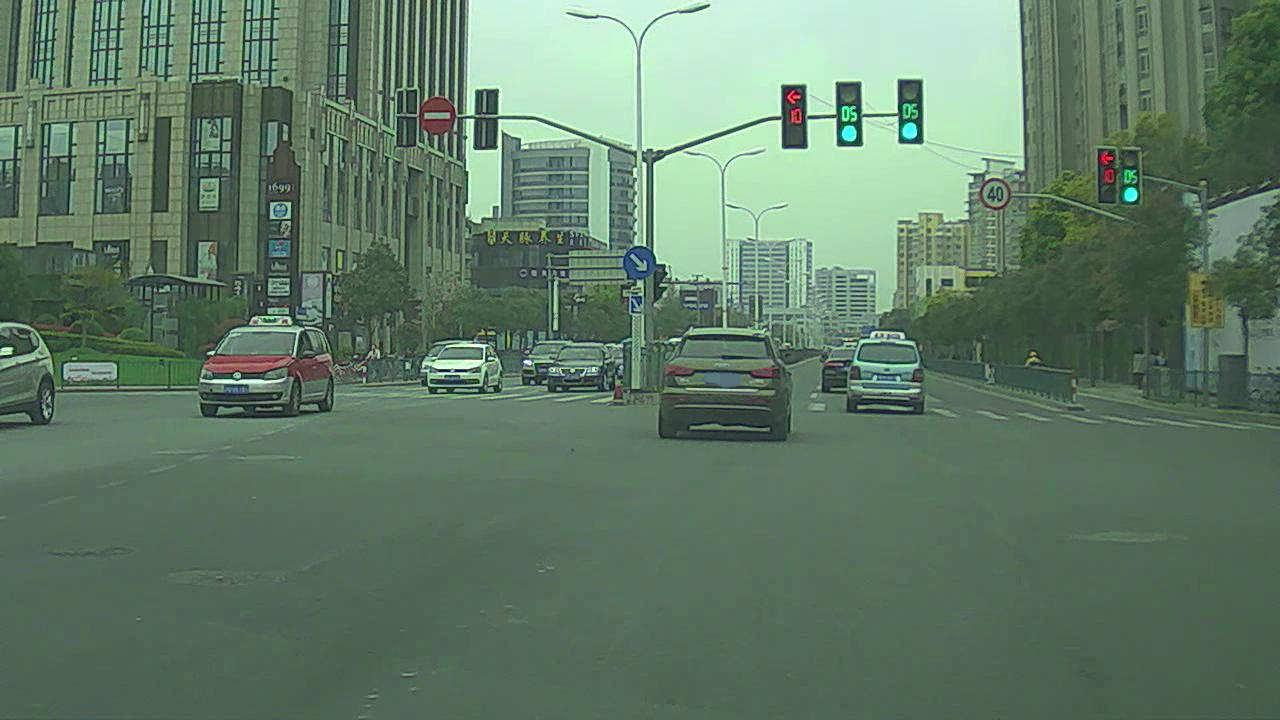traffic_light: (897, 80, 926, 142), (781, 83, 809, 147), (837, 85, 863, 146), (1116, 145, 1142, 202), (1098, 146, 1117, 203)
